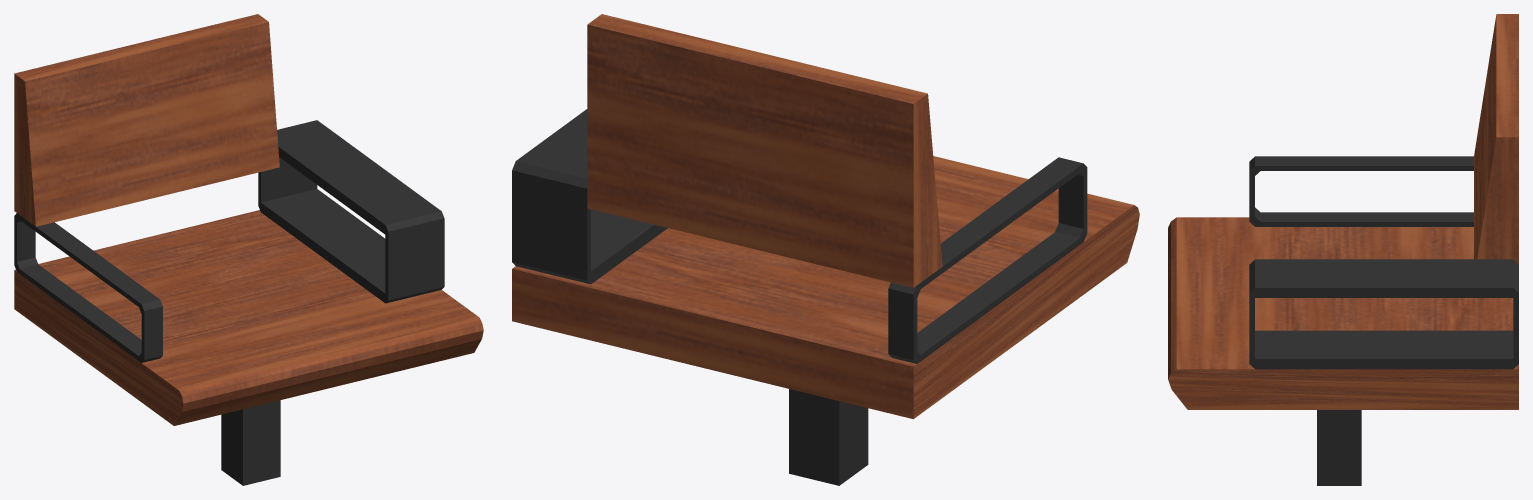
Rendered from nyc_subway_bench_2c.obj.
3 renders of one model, left to right at view 1: azimuth 30°, elevation 25°; view 2: azimuth 150°, elevation 25°; view 3: azimuth 270°, elevation 25°, orthographic. The views are drawn at different scales.
Visible parts, largest first — view 1: cube; view 2: cube; view 3: cube.
Boxes of the visible parts, bbox=[...] form: cube: bbox=[14, 14, 483, 485]; cube: bbox=[512, 14, 1139, 485]; cube: bbox=[1168, 14, 1518, 485].
Bounding box in the file's own units: 1 × 1.19 × 0.9766.
Materials: 2 (2 with a texture image).
